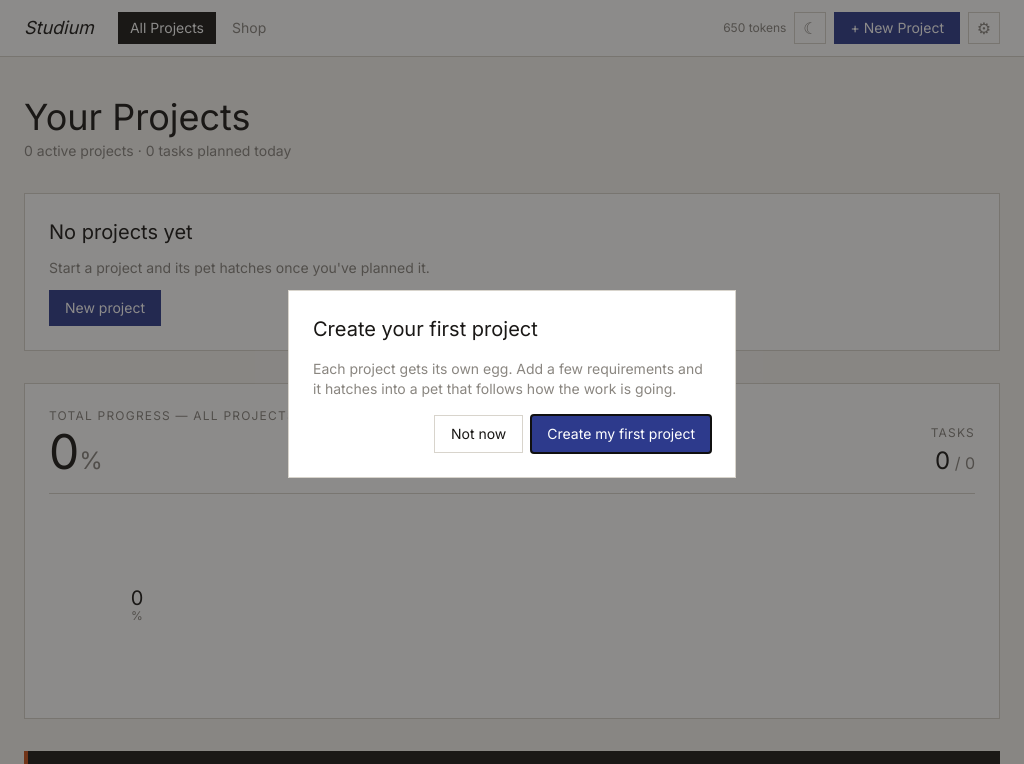
Scenario: StudiumApp › Not now closes the first-project prompt, and it returns when the Overview opens again
What coordinates should you click on to do the following:
click the button "Not now"
I would click on:
 (479, 434)
Its box is [434,415,523,453].
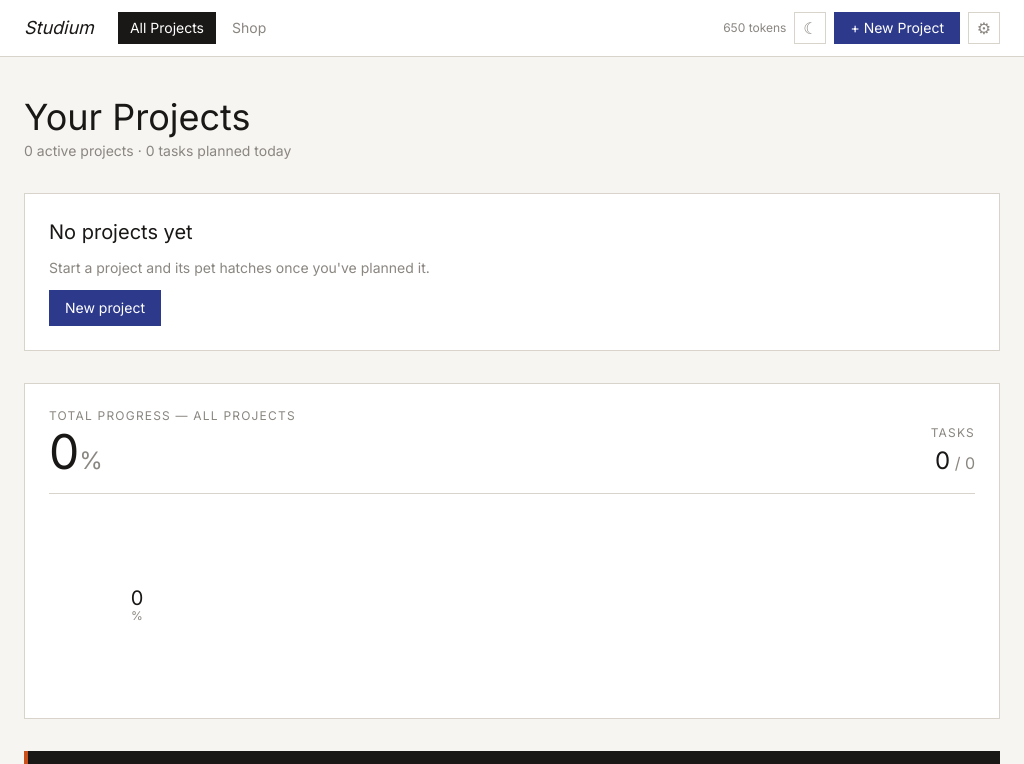
Check: the heading "Create your first project" is gone
What coordinates should you click on to do the following:
click the button named "Settings"
I would click on:
 (984, 28)
Its box is [968,12,1000,44].
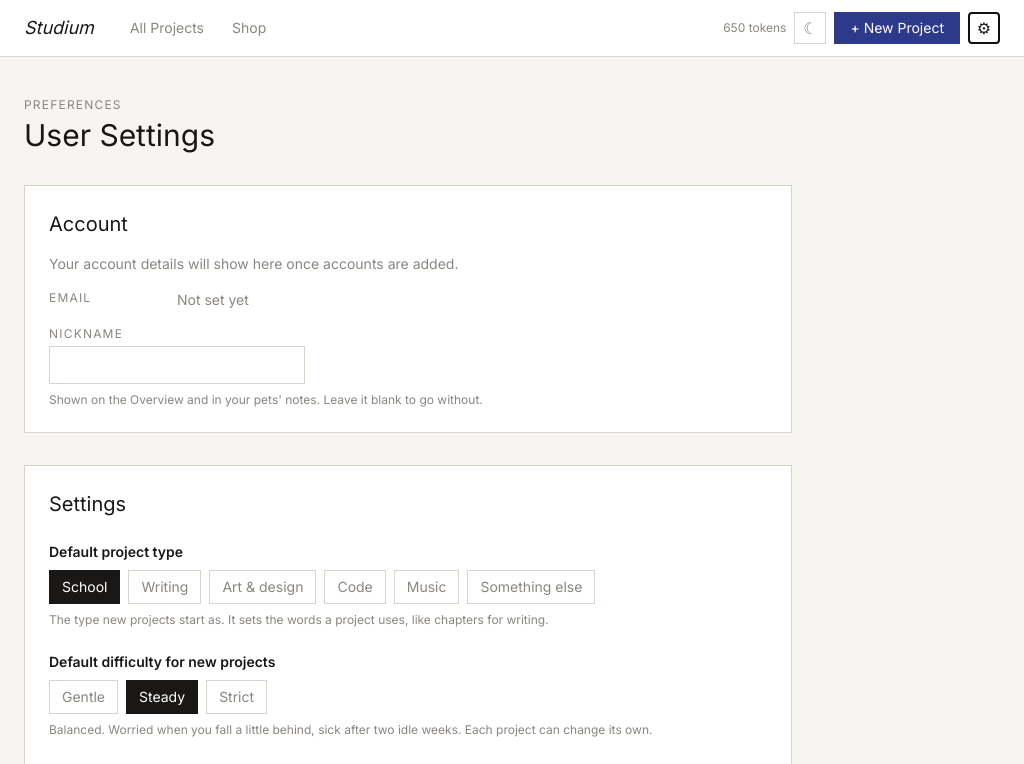
What coordinates should you click on to do the following:
click the button "All Projects"
I would click on:
 (167, 28)
Its box is [118,12,216,44].
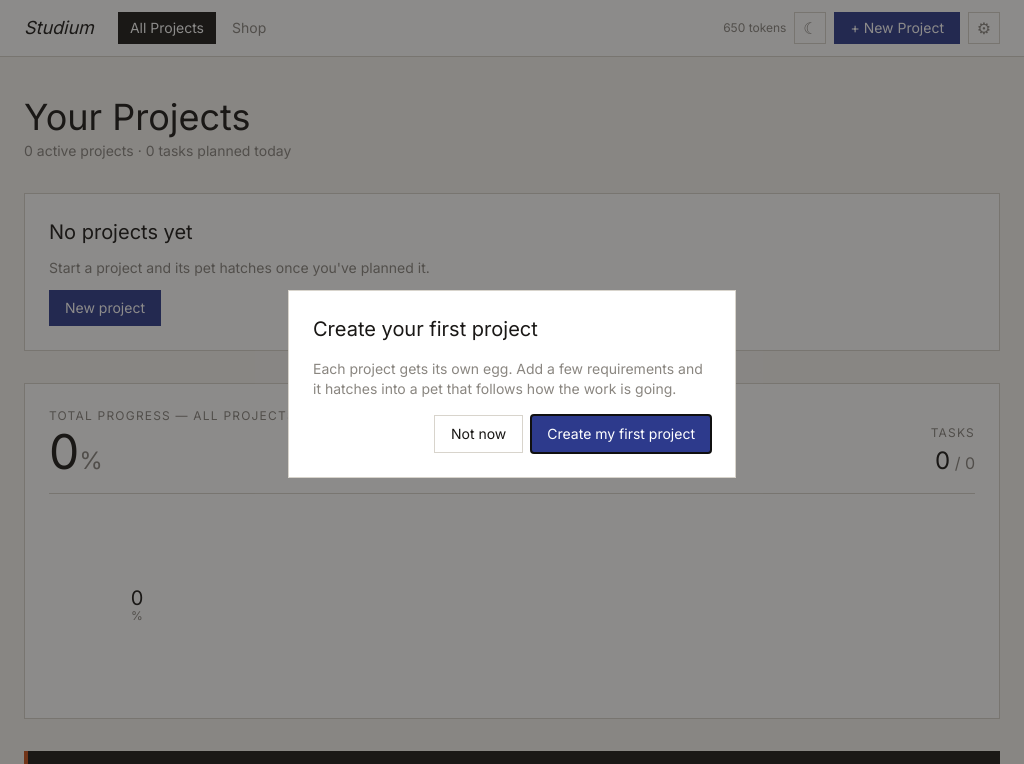
Check: the dialog "Create your first project" is shown, box [288,290,736,478]
